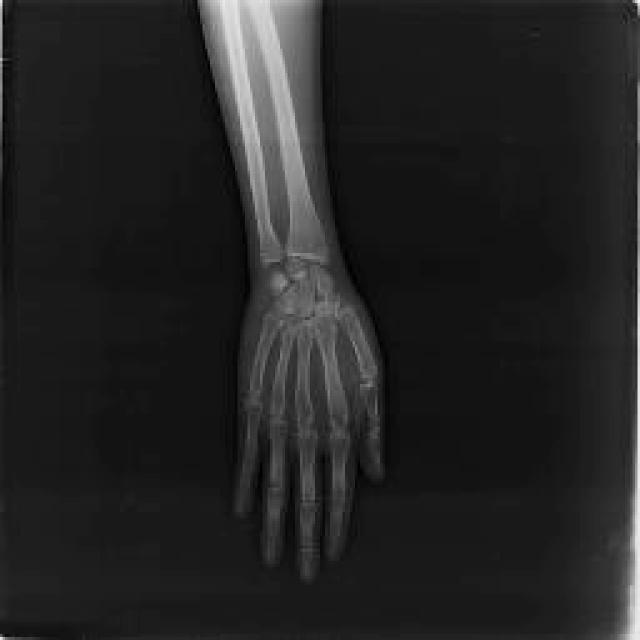normal: (223, 5, 384, 583)
